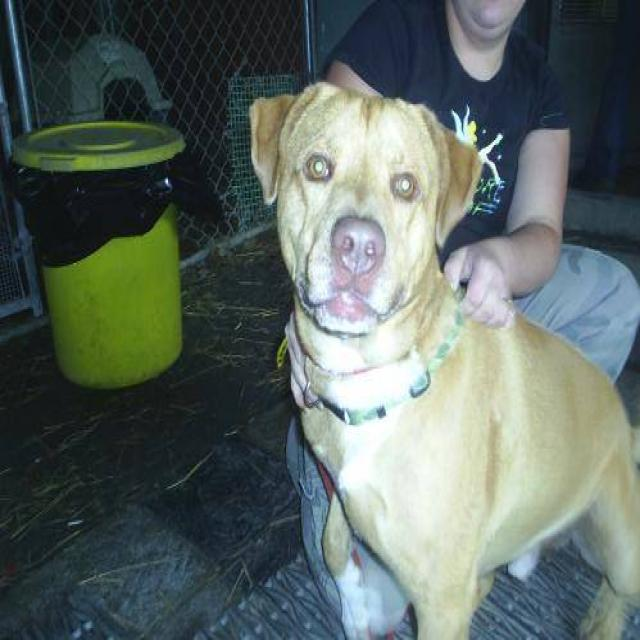dog: (247, 79, 638, 638)
